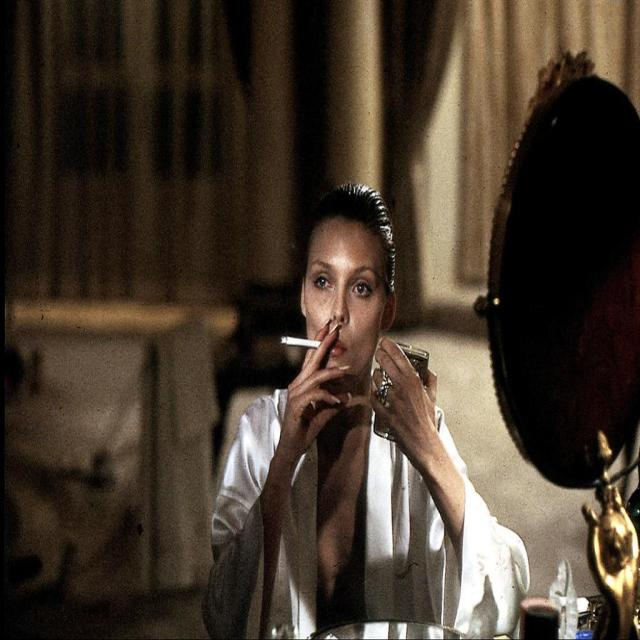smoking: (275, 181, 418, 432)
